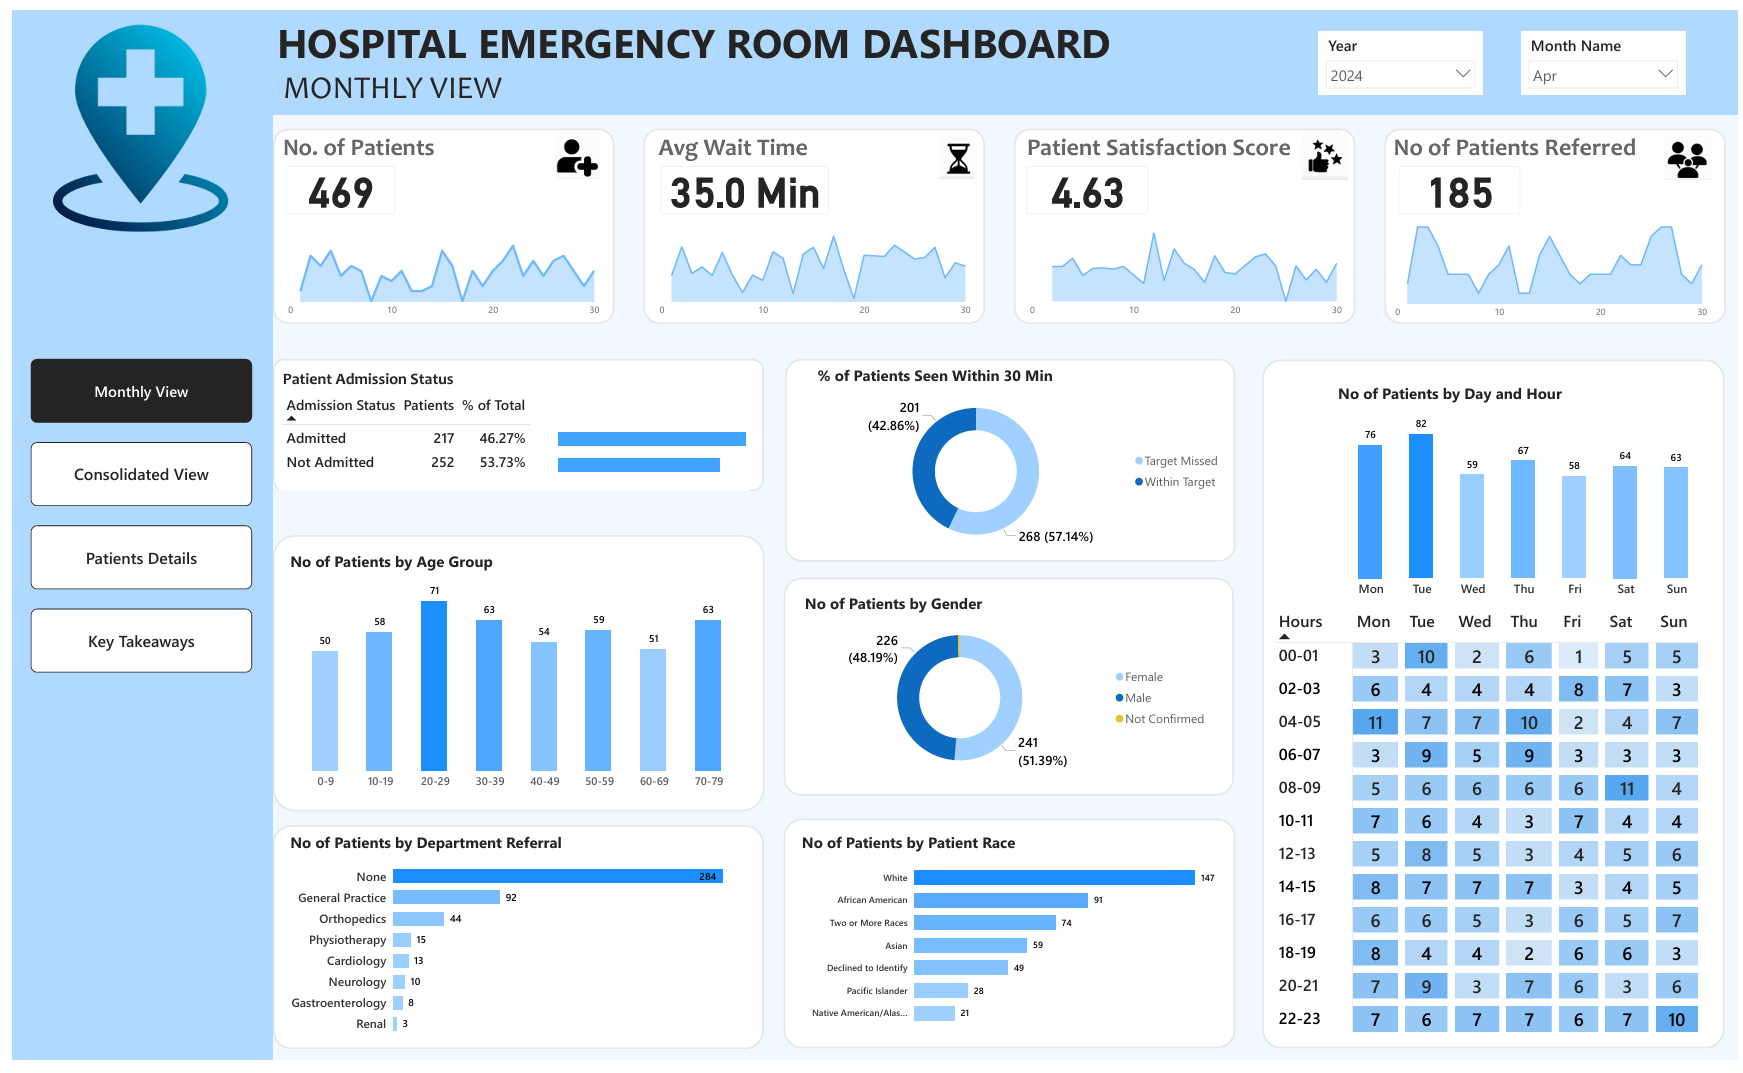

The dashboard page shown, as its layout file describes it:
{"tool":"powerbi","page":{"name":"Monthly View","canvas":[2300,1400],"ordinal":0},"visuals":[{"type":"shape","box":[347.6,157.5,455,259.7],"z":0},{"type":"shape","box":[348,0,1952,140],"z":1000},{"type":"textbox","box":[348,0,1162,92],"z":2000},{"type":"textbox","box":[355.8,69.5,382.4,87.9],"z":3000},{"type":"cardVisual","fields":{"Data":["Hospital ER_Data.No of Patients"]},"box":[347.6,190.2,179.9,98.2],"z":4000},{"type":"slicer","fields":{"Values":["Date Table.Year"]},"box":[1742.2,26.6,218.8,85.9],"z":5000},{"type":"slicer","fields":{"Values":["Date Table.Month Name"]},"box":[2012.1,26.6,218.8,85.9],"z":6000},{"type":"textbox","box":[355.8,157.5,249.5,49.1],"z":7000},{"type":"areaChart","fields":{"Category":["Date Table.Date.Variation.Date Hierarchy.Day"],"Y":["Hospital ER_Data.No of Patients"]},"box":[355.8,272,435.5,145.2],"z":8000},{"type":"shape","box":[841.8,157.5,455,259.7],"z":9000},{"type":"shape","box":[1336,157.5,455,259.7],"z":10000},{"type":"shape","box":[1830.1,157.5,455,259.7],"z":11000},{"type":"textbox","box":[856.8,157.5,249.5,49.1],"z":12000},{"type":"cardVisual","fields":{"Data":["Hospital ER_Data.Avg Wait Time"]},"box":[846.6,190.2,259.7,98.2],"z":13000},{"type":"areaChart","fields":{"Category":["Date Table.Date.Variation.Date Hierarchy.Day"],"Y":["Avg(Hospital ER_Data.Patient Waittime)"]},"box":[850.6,272,435.5,145.2],"z":14000},{"type":"textbox","box":[1347.5,157.5,368.1,49.1],"z":15000},{"type":"cardVisual","fields":{"Data":["Hospital ER_Data.Patient Satisfy Score"]},"box":[1335.3,190.2,196.3,98.2],"z":16000},{"type":"shape","box":[347.6,464.2,654.3,175.9],"z":17000},{"type":"areaChart","fields":{"Category":["Date Table.Date.Variation.Date Hierarchy.Day"],"Y":["Avg(Hospital ER_Data.Patient Satisfaction Score)"]},"box":[1345.5,272,435.5,145.2],"z":18000},{"type":"textbox","box":[1830.1,157.5,368.1,49.1],"z":19000},{"type":"cardVisual","fields":{"Data":["Hospital ER_Data.No of Patient referral"]},"box":[1832.2,190.2,196.3,98.2],"z":20000},{"type":"areaChart","fields":{"Category":["Date Table.Date.Variation.Date Hierarchy.Day"],"Y":["Hospital ER_Data.No of Patient referral"]},"box":[1832.2,274,435.5,145.2],"z":21000},{"type":"pivotTable","title":"Patient Admission Status","fields":{"Rows":["Hospital ER_Data.Admission Status"],"Values":["Hospital ER_Data.No of Patients1","Hospital ER_Data.No of Patients"]},"box":[355.8,478.5,625.7,161.5],"z":22000},{"type":"barChart","fields":{"Category":["Hospital ER_Data.Admission Status"],"Y":["Hospital ER_Data.No of Patients"]},"box":[723.9,531.7,306.7,108.4],"z":23000},{"type":"shape","box":[347.6,699.3,655,368],"z":24000},{"type":"clusteredColumnChart","fields":{"Category":["Hospital ER_Data.Age Group"],"Y":["Hospital ER_Data.No of Patients"]},"box":[366,719.8,615.5,327.2],"z":25000},{"type":"shape","box":[347.6,1085.8,654.3,298.5],"z":26000},{"type":"shape","box":[1029.2,756.2,600,289.6],"z":27000},{"type":"clusteredBarChart","fields":{"Category":["Hospital ER_Data.Department Referral"],"Y":["Hospital ER_Data.No of Patients"]},"box":[366,1094,615.5,282.2],"z":28000},{"type":"shape","box":[1666.7,464.6,616.7,918.8],"z":29000},{"type":"shape","box":[1030.6,464.2,600,270],"z":30000},{"type":"donutChart","title":"% of Patients Seen Within 30 Min","fields":{"Category":["Hospital ER_Data.Waittime"],"Y":["Hospital ER_Data.No of Patients"]},"box":[1069.4,472.4,552.1,255.6],"z":31000},{"type":"donutChart","title":"No of Patients by Gender","fields":{"Category":["Hospital ER_Data.Patient Gender"],"Y":["Hospital ER_Data.No of Patients"]},"box":[1052.1,775,552.1,254.2],"z":32000},{"type":"shape","box":[1029.2,1077.1,602.1,306.2],"z":33000},{"type":"clusteredBarChart","fields":{"Category":["Hospital ER_Data.Patient Race"],"Y":["Hospital ER_Data.No of Patients"]},"box":[1047.9,1093.8,566.7,268.8],"z":34000},{"type":"pivotTable","fields":{"Rows":["Hospital ER_Data.Waittime Interval"],"Columns":["Date Table.Day Name"],"Values":["Hospital ER_Data.No of Patients"]},"box":[1679.2,791.7,587.5,585.4],"z":35000},{"type":"columnChart","title":"No of Patients by Day and Hour","fields":{"Category":["Date Table.Day Name"],"Y":["Hospital ER_Data.No of Patients"]},"box":[1762.5,495.8,506.2,295.8],"z":36000},{"type":"shape","box":[0,0,346.7,1400],"z":37000},{"type":"image","box":[31.8,18.2,279.5,277.3],"z":38000},{"type":"image","box":[1720,164,62,62],"z":39000},{"type":"image","box":[1236,166,50,58],"z":40000},{"type":"image","box":[716,162,76,62],"z":41000},{"type":"image","box":[2200,168,68,58],"z":42000},{"type":"pageNavigator","box":[25,463.6,295.5,420.5],"z":43000}]}

Visuals, with their boxes in screenshot pixels (x1, y1, x2, y2), scaled from the page's 2300x1400 canvas onto the 1743x1073 screenshot:
shape: box(263, 121, 608, 320)
shape: box(264, 0, 1742, 107)
textbox: box(264, 0, 1144, 71)
textbox: box(270, 53, 559, 121)
cardVisual - Hospital ER_Data.No of Patients: box(263, 146, 400, 221)
slicer - Date Table.Year: box(1320, 20, 1486, 86)
slicer - Date Table.Month Name: box(1525, 20, 1691, 86)
textbox: box(270, 121, 459, 158)
areaChart - Date Table.Date.Variation.Date Hierarchy.Day x Hospital ER_Data.No of Patients: box(270, 208, 600, 320)
shape: box(638, 121, 983, 320)
shape: box(1012, 121, 1357, 320)
shape: box(1387, 121, 1732, 320)
textbox: box(649, 121, 838, 158)
cardVisual - Hospital ER_Data.Avg Wait Time: box(642, 146, 838, 221)
areaChart - Date Table.Date.Variation.Date Hierarchy.Day x Avg(Hospital ER_Data.Patient Waittime): box(645, 208, 975, 320)
textbox: box(1021, 121, 1300, 158)
cardVisual - Hospital ER_Data.Patient Satisfy Score: box(1012, 146, 1161, 221)
shape: box(263, 356, 759, 491)
areaChart - Date Table.Date.Variation.Date Hierarchy.Day x Avg(Hospital ER_Data.Patient Satisfaction Score): box(1020, 208, 1350, 320)
textbox: box(1387, 121, 1666, 158)
cardVisual - Hospital ER_Data.No of Patient referral: box(1388, 146, 1537, 221)
areaChart - Date Table.Date.Variation.Date Hierarchy.Day x Hospital ER_Data.No of Patient referral: box(1388, 210, 1719, 321)
"Patient Admission Status" pivotTable: box(270, 367, 744, 491)
barChart - Hospital ER_Data.Admission Status x Hospital ER_Data.No of Patients: box(549, 408, 781, 491)
shape: box(263, 536, 760, 818)
clusteredColumnChart - Hospital ER_Data.Age Group x Hospital ER_Data.No of Patients: box(277, 552, 744, 802)
shape: box(263, 832, 759, 1061)
shape: box(780, 580, 1235, 802)
clusteredBarChart - Hospital ER_Data.Department Referral x Hospital ER_Data.No of Patients: box(277, 838, 744, 1055)
shape: box(1263, 356, 1730, 1060)
shape: box(781, 356, 1236, 563)
"% of Patients Seen Within 30 Min" donutChart: box(810, 362, 1229, 558)
"No of Patients by Gender" donutChart: box(797, 594, 1216, 789)
shape: box(780, 826, 1236, 1060)
clusteredBarChart - Hospital ER_Data.Patient Race x Hospital ER_Data.No of Patients: box(794, 838, 1224, 1044)
pivotTable - Hospital ER_Data.Waittime Interval x Date Table.Day Name: box(1273, 607, 1718, 1055)
"No of Patients by Day and Hour" columnChart: box(1336, 380, 1719, 607)
shape: box(0, 0, 263, 1072)
image: box(24, 14, 236, 226)
image: box(1303, 126, 1350, 173)
image: box(937, 127, 975, 172)
image: box(543, 124, 600, 172)
image: box(1667, 129, 1719, 173)
pageNavigator: box(19, 355, 243, 678)
